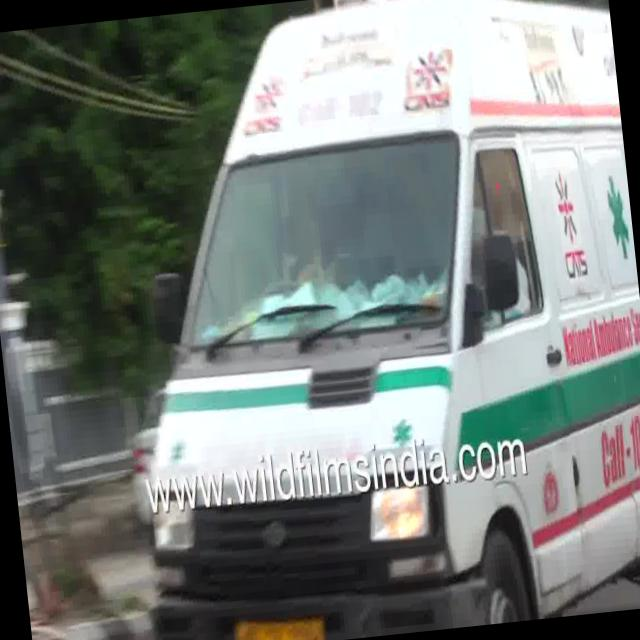ambulance: (135, 0, 640, 470), (145, 483, 640, 640)
